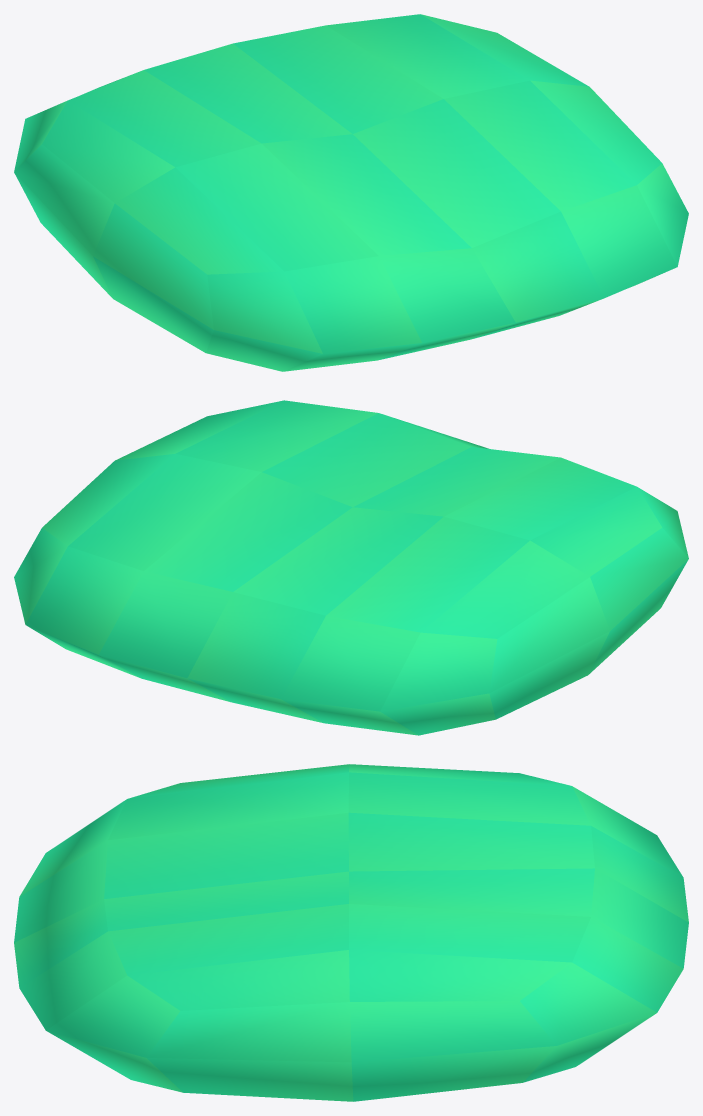
Rendered from TravesseirinhoTexture.fbx.
3 renders of one model, top to bottom at view 1: azimuth 30°, elevation 25°; view 2: azimuth 150°, elevation 25°; view 3: azimuth 270°, elevation 25°, orthographic. The views are drawn at different scales.
Visible parts, largest first — view 1: Travesseirinho; view 2: Travesseirinho; view 3: Travesseirinho.
Boxes of the visible parts, <box> form: Travesseirinho: <box>14,14,688,371</box>; Travesseirinho: <box>14,400,688,735</box>; Travesseirinho: <box>14,764,688,1101</box>.
Size of the model in its own units: 2.18 by 0.587 by 2.4.
